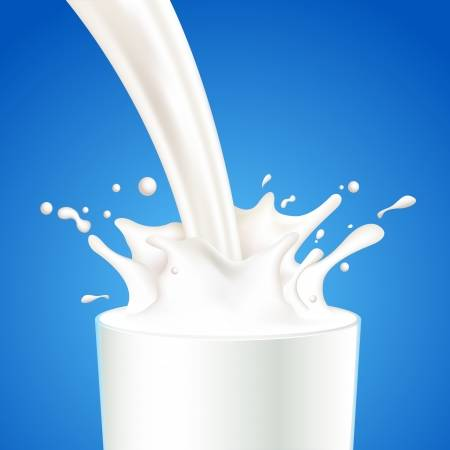glass of milk: (88, 206, 365, 450)
